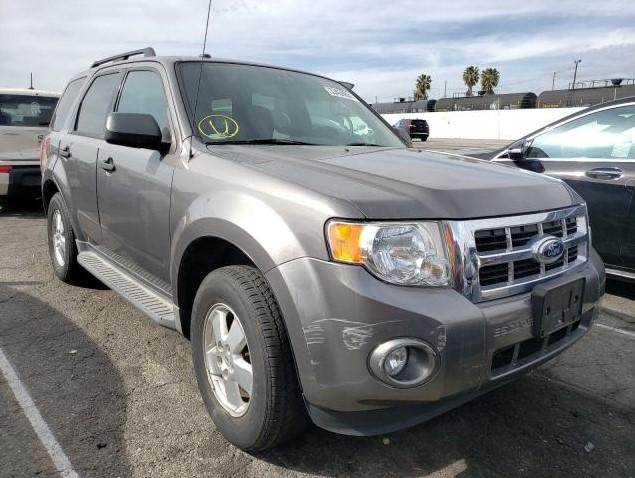Back-door: (51, 63, 125, 251)
Back-wheel: (47, 192, 92, 285)
Back-window: (74, 72, 121, 135)
Back-windshield: (51, 76, 87, 131)
Fender: (170, 135, 365, 307)
Front-bumper: (265, 241, 608, 436)
Front-door: (97, 61, 183, 295)
Front-wheel: (190, 265, 310, 452)
Front-window: (116, 70, 172, 143)
Grille: (438, 203, 587, 304)
Headlight: (324, 217, 453, 288)
Hood: (206, 145, 585, 219)
Mirror: (104, 113, 172, 160), (393, 119, 430, 144)
Quarter-panel: (41, 127, 66, 214)
Rocker-panel: (75, 238, 183, 335)
Windshield: (175, 61, 409, 147)
